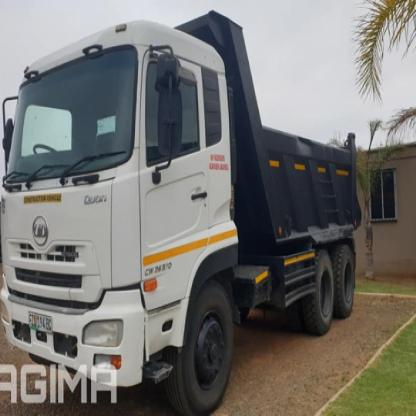dump_truck: (4, 7, 381, 415)
